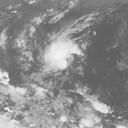cyclone: (40, 33, 82, 76)
